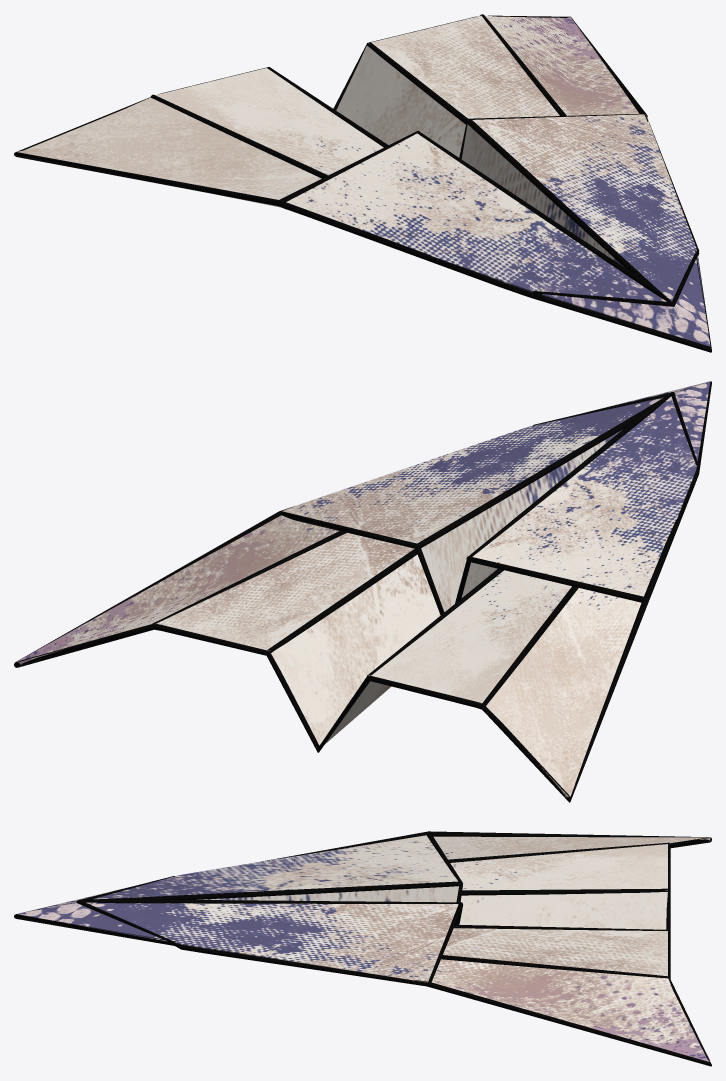
Rendered from Paper_Plane.fbx.
The picture shows the model from 3 angles, top to bottom: view 1: azimuth 30°, elevation 25°; view 2: azimuth 150°, elevation 25°; view 3: azimuth 270°, elevation 25°; orthographic projection. The views are drawn at different scales.
Visible parts, largest first — view 1: Paper_Plane; view 2: Paper_Plane; view 3: Paper_Plane.
Part boxes in pixels (box(x1,y1,x2,y2)): Paper_Plane: box(14, 14, 711, 352); Paper_Plane: box(14, 381, 711, 802); Paper_Plane: box(14, 831, 711, 1066).
Size of the model in its own units: 52.98 by 10.09 by 69.14.
1 material, 1 textured.
